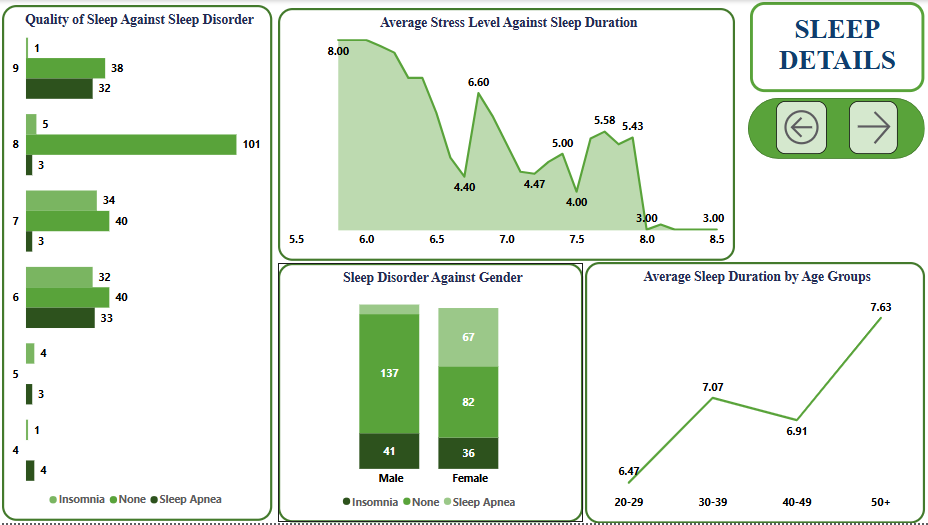

This screenshot's page, from the dashboard's own definition file:
{"tool":"powerbi","page":{"name":"Sleep Details","canvas":[1280,720],"ordinal":2},"visuals":[{"type":"clusteredBarChart","title":"Quality of Sleep Against Sleep Disorder","fields":{"Category":["Sleep_health_and_lifestyle_dataset.Quality of Sleep"],"Series":["Sleep_health_and_lifestyle_dataset.Sleep Disorder"],"Y":["CountNonNull(Sleep_health_and_lifestyle_dataset.Quality of Sleep)"]},"box":[3,7.5,372,709.5],"z":0},{"type":"columnChart","title":"Sleep Disorder Against Gender ","fields":{"Category":["Sleep_health_and_lifestyle_dataset.Gender"],"Series":["Sleep_health_and_lifestyle_dataset.Sleep Disorder"],"Y":["CountNonNull(Sleep_health_and_lifestyle_dataset.Sleep Disorder)"]},"box":[382.4,361.5,419.8,357],"z":1000},{"type":"lineChart","title":"Average Sleep Duration by Age Groups","fields":{"Y":["Avg(Sleep_health_and_lifestyle_dataset.Sleep Duration)"],"Category":["Patient Details.Age Groups"]},"box":[805.1,360,467.6,360],"z":2000},{"type":"areaChart","title":"Average Stress Level Against Sleep Duration","fields":{"Y":["Avg(Sleep_health_and_lifestyle_dataset.Stress Level)"],"Category":["Sleep_health_and_lifestyle_dataset.Sleep Duration"]},"box":[382.4,10.5,628.9,348],"z":3000},{"type":"shape","box":[1029.2,134.4,243.5,83.7],"z":4000},{"type":"textbox","box":[1032.2,3,240.5,124],"z":5000},{"type":"actionButton","box":[1068,138.9,70.2,73.2],"z":6000},{"type":"actionButton","box":[1168.1,138.9,67.2,73.2],"z":7000}]}

Visuals, with their boxes in screenshot pixels (x1, y1, x2, y2), scaled from the page's 1280x720 canvas onto the 928x525 screenshot:
"Quality of Sleep Against Sleep Disorder" clusteredBarChart: 2, 5, 272, 523
"Sleep Disorder Against Gender " columnChart: 277, 264, 582, 524
"Average Sleep Duration by Age Groups" lineChart: 584, 262, 923, 524
"Average Stress Level Against Sleep Duration" areaChart: 277, 8, 733, 261
shape: 746, 98, 923, 159
textbox: 748, 2, 923, 93
actionButton: 774, 101, 825, 155
actionButton: 847, 101, 896, 155
